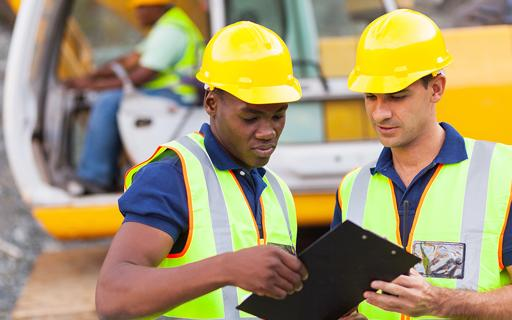safe person: (90, 18, 309, 299), (332, 9, 505, 307)
